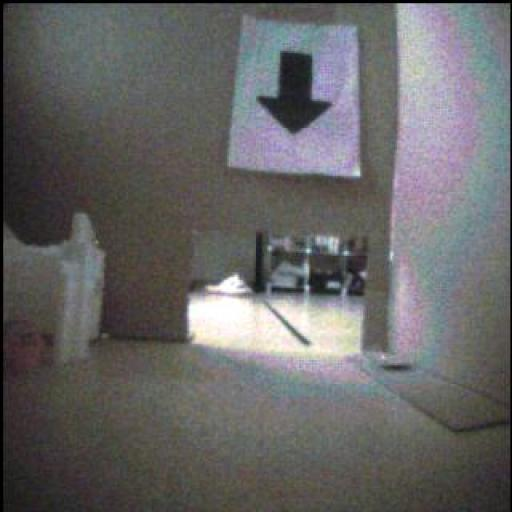arrow: (259, 53, 332, 136)
